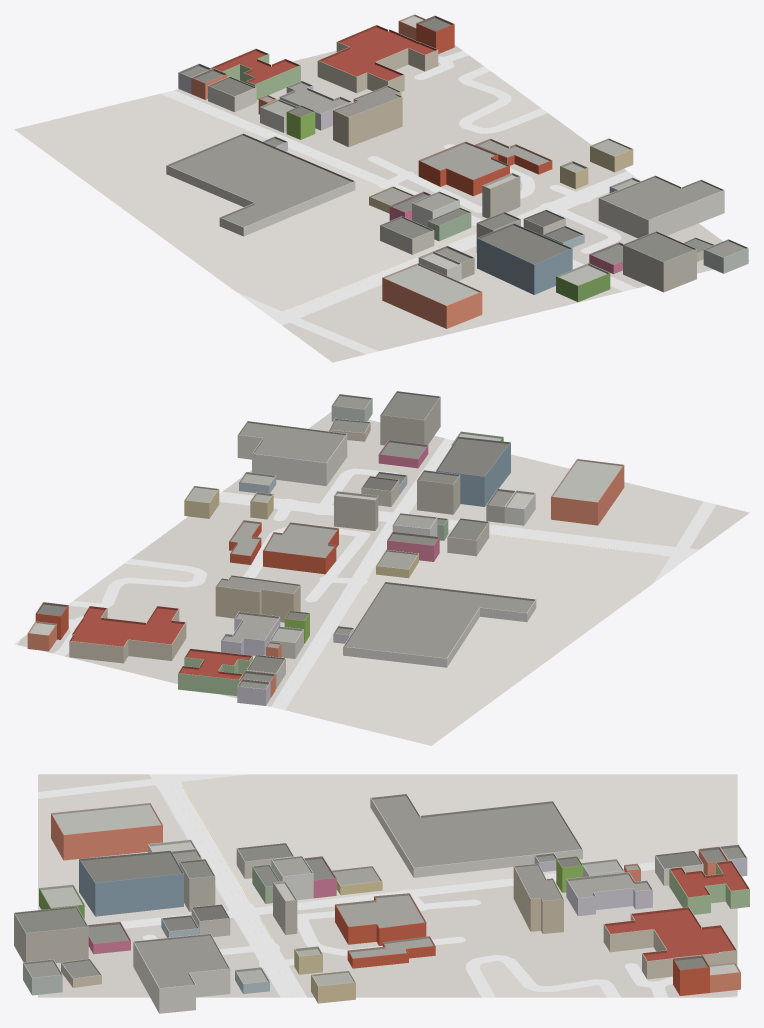
3 renders of one model, top to bottom at view 1: azimuth 30°, elevation 25°; view 2: azimuth 150°, elevation 25°; view 3: azimuth 270°, elevation 25°, orthographic. The views are drawn at different scales.
Visible parts, largest first — view 1: ground, roofs, walls, asphalt; view 2: ground, roofs, walls, asphalt; view 3: ground, roofs, walls, asphalt.
Boxes of the visible parts, bbox=[...] form: ground: bbox=[14, 45, 749, 362]; roofs: bbox=[167, 14, 748, 305]; walls: bbox=[166, 21, 748, 328]; asphalt: bbox=[160, 51, 638, 354]; ground: bbox=[17, 412, 749, 745]; roofs: bbox=[28, 391, 623, 689]; walls: bbox=[27, 397, 624, 705]; asphalt: bbox=[14, 438, 716, 709]; ground: bbox=[38, 774, 737, 997]; roofs: bbox=[14, 793, 749, 988]; walls: bbox=[14, 798, 749, 1013]; asphalt: bbox=[38, 774, 737, 997].
Size of what is drawn, in the model's own units: 203 by 13.31 by 263.
